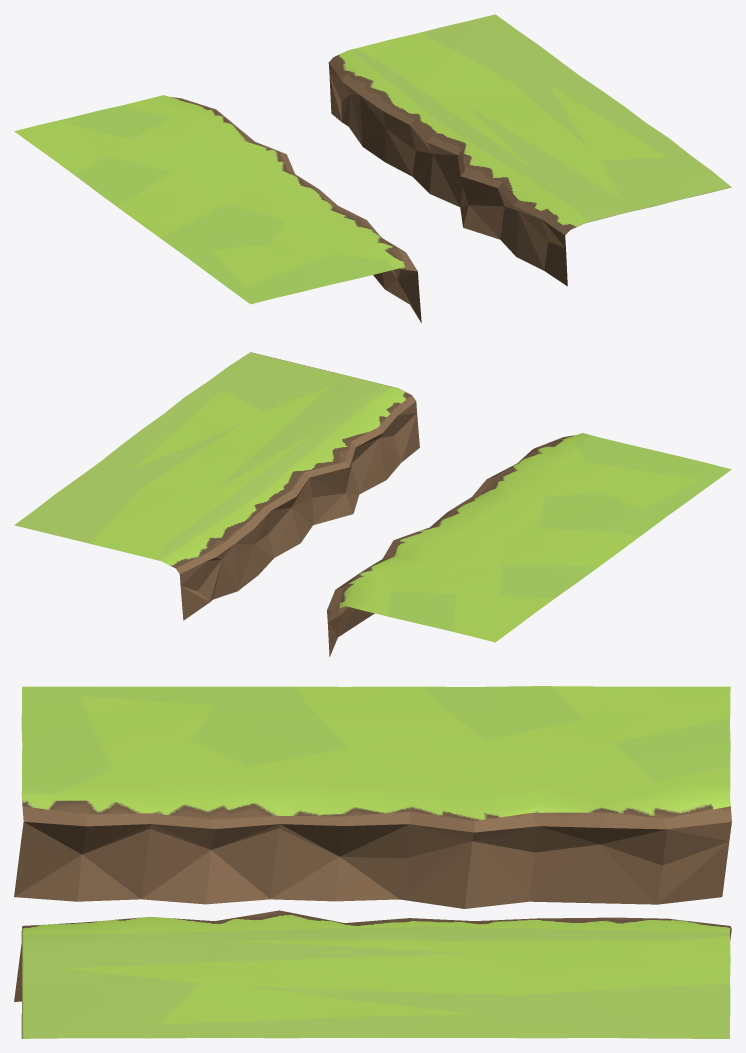
Rendered from side grounds.fbx.
3 views of the same model, one above another, from view 1: azimuth 30°, elevation 25°; view 2: azimuth 150°, elevation 25°; view 3: azimuth 270°, elevation 25° (orthographic). The views are drawn at different scales.
Parts seen in each view (by area): view 1: polySurface1, polySurface2; view 2: polySurface1, polySurface2; view 3: polySurface2, polySurface1.
Part boxes in pixels (x1,y1,x2,y2): polySurface1: [328, 14, 731, 286]; polySurface2: [14, 95, 421, 322]; polySurface1: [14, 352, 419, 620]; polySurface2: [327, 433, 731, 656]; polySurface2: [14, 686, 731, 908]; polySurface1: [14, 910, 731, 1038].
Size of the model in its own units: 40095 by 4722 by 34456.
